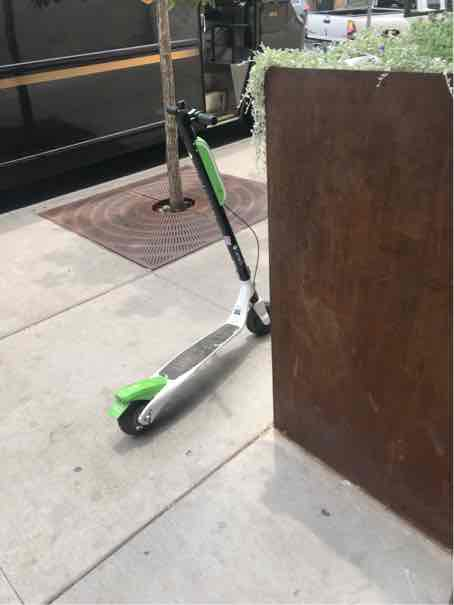scooter: (97, 104, 284, 446)
